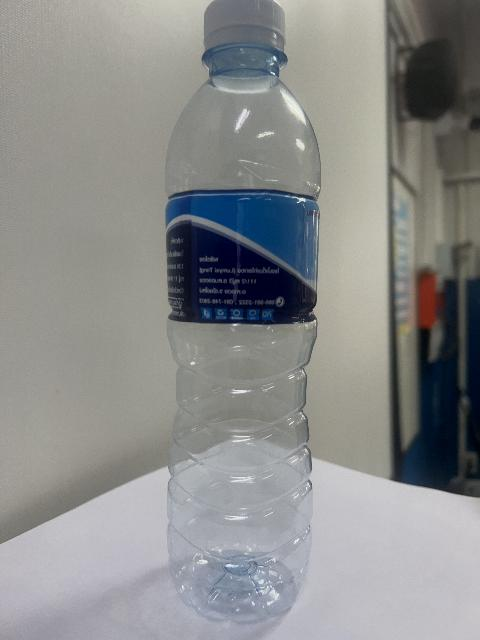bottle: (165, 0, 319, 622)
